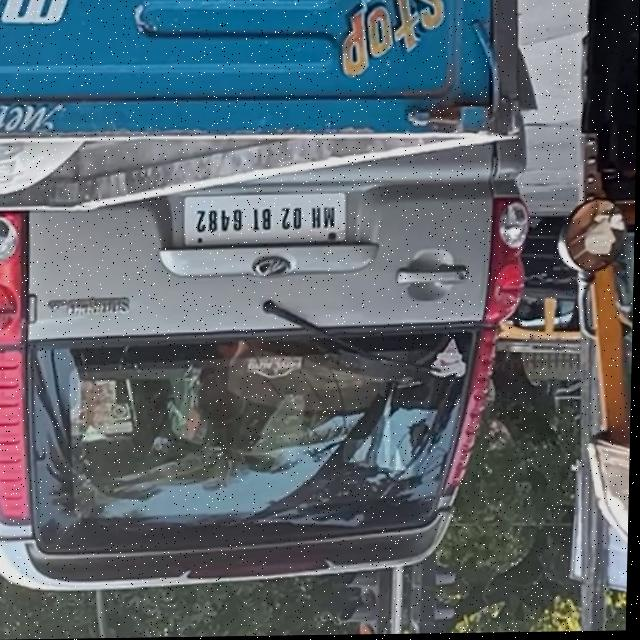plate: (182, 192, 350, 250)
